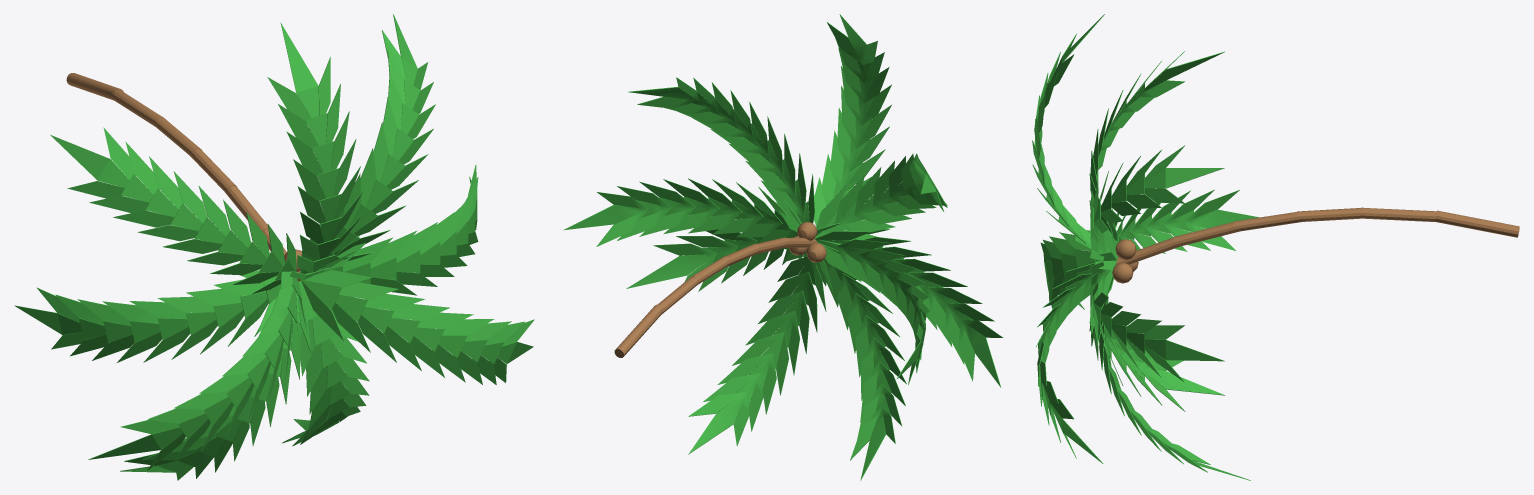
File: palm.obj
3 views of the same model, side by side, from view 1: azimuth 30°, elevation 25°; view 2: azimuth 150°, elevation 25°; view 3: azimuth 270°, elevation 25° (orthographic). The views are drawn at different scales.
Parts seen in each view (by area): view 1: obj_0.011; view 2: obj_0.011; view 3: obj_0.011.
Part boxes in pixels (x1=…): obj_0.011: x1=14, y1=14, x2=534, y2=480; obj_0.011: x1=563, y1=14, x2=1003, y2=480; obj_0.011: x1=1032, y1=14, x2=1519, y2=480.
Bounding box in the file's own units: 43.41 × 44.49 × 46.19.
